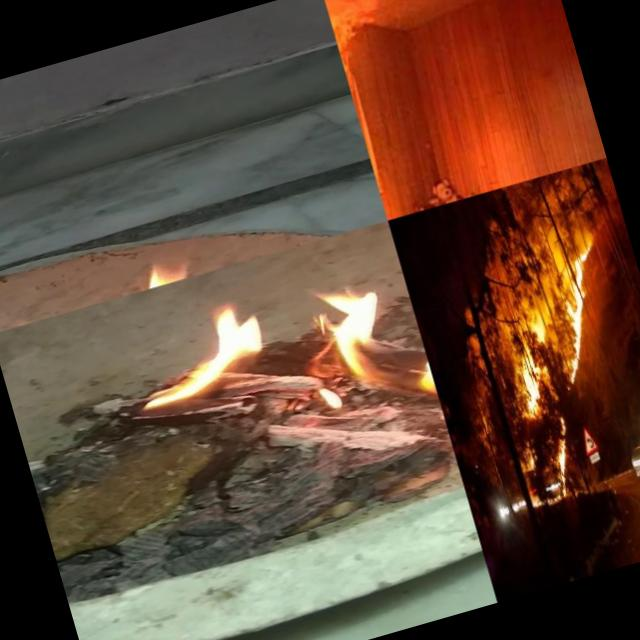fire: (108, 260, 452, 530), (324, 0, 422, 195), (528, 242, 612, 382), (488, 292, 562, 414), (85, 248, 187, 304), (542, 418, 586, 500)
